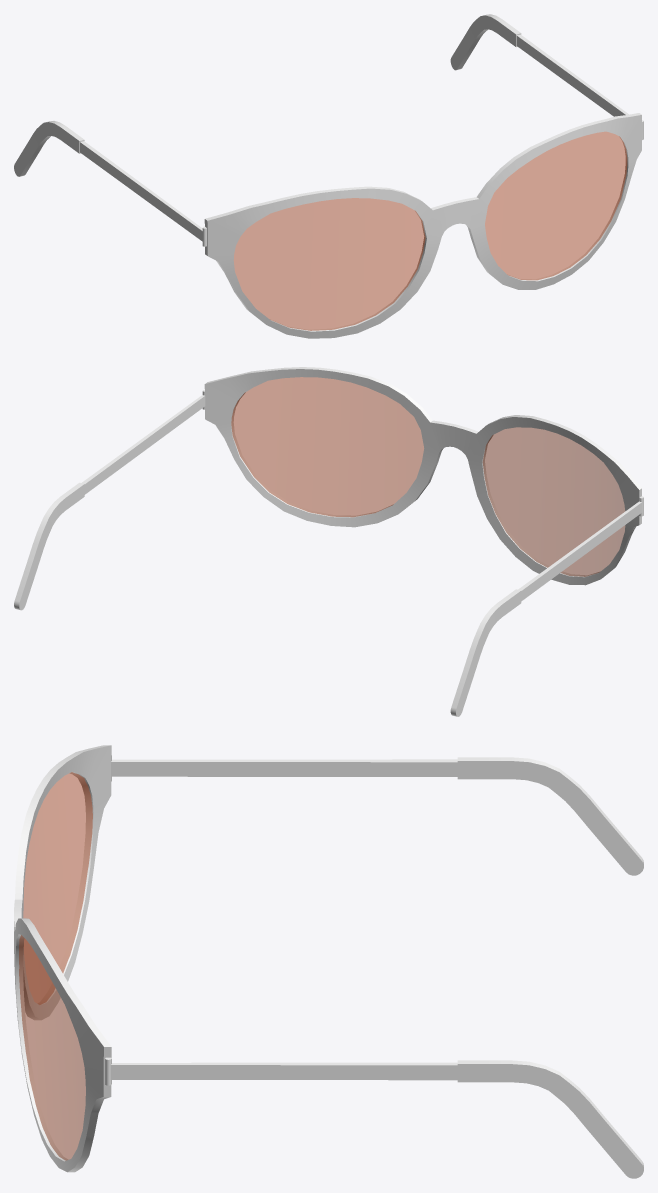
The picture shows the model from 3 angles, top to bottom: view 1: azimuth 30°, elevation 25°; view 2: azimuth 150°, elevation 25°; view 3: azimuth 270°, elevation 25°; orthographic projection. The views are drawn at different scales.
Visible parts, largest first — view 1: Lens, Material.026; view 2: Lens, Material.026; view 3: Material.026, Lens.
Boxes of the visible parts, x1,y1,x2,y2 form: Lens: (233,131,627,330); Material.026: (14,14,643,338); Lens: (231,377,625,576); Material.026: (14,367,643,716); Material.026: (14,745,643,1178); Lens: (19,772,92,1160).
Size of the model in its own units: 2.18 by 0.7101 by 1.89.
